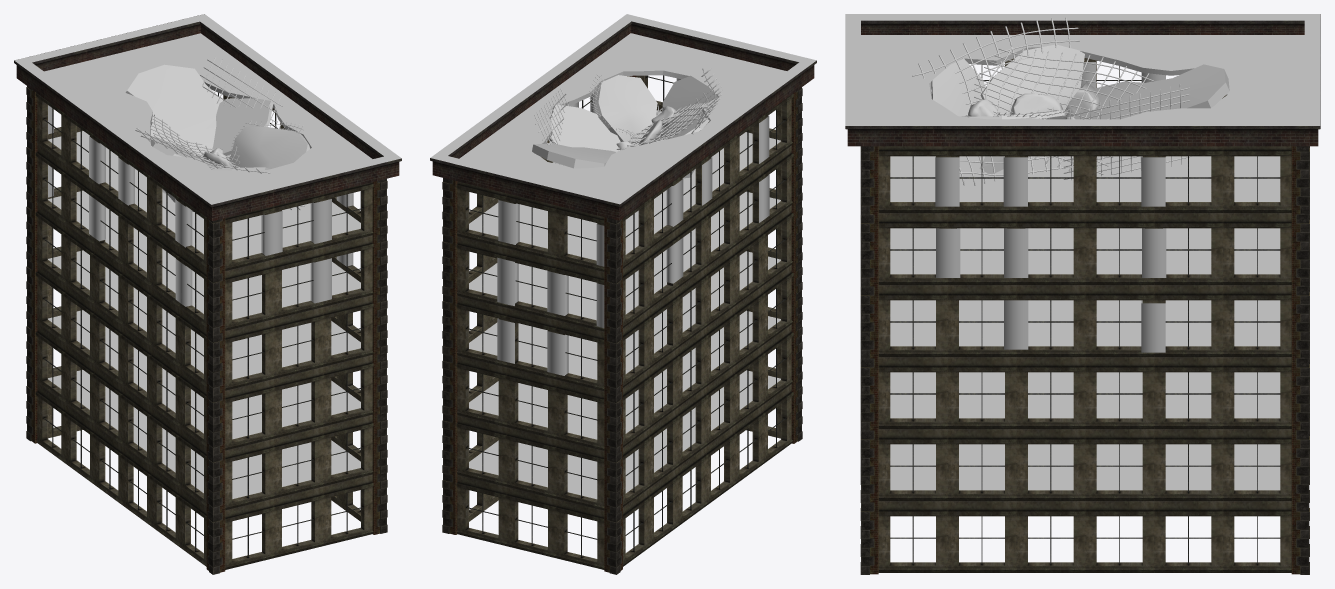
Rendered from BuildingTanSm03.fbx.
3 renders of one model, left to right at view 1: azimuth 30°, elevation 25°; view 2: azimuth 150°, elevation 25°; view 3: azimuth 270°, elevation 25°, orthographic. The views are drawn at different scales.
Parts seen in each view (by area): view 1: Plane.050, Cube.177, Cube.176, Cube.202, Cube.203, Cube.204, Cube.179, Cube.181, Cube.197, Cube.198, Cube.199, Cube.200 (+2 smaller); view 2: Plane.050, Cube.177, Cube.176, Cube.181, Cube.195, Cube.194, Cube.192, Cube.190, Cube.193, Cube.200, Cube.201, Cube.179 (+1 smaller); view 3: Plane.050, Cube.177, Cube.176, Cube.181, Cube.180, Cube.179, Cube.188, Cube.183, Cube.185, Cube.187, Cube.182, Cube.184 (+2 smaller).
Part boxes in pixels (x1,y1,x2,y2): Plane.050: [26, 86, 387, 574]; Cube.177: [44, 33, 372, 211]; Cube.176: [14, 14, 401, 221]; Cube.202: [261, 210, 282, 255]; Cube.203: [310, 199, 331, 243]; Cube.204: [310, 258, 331, 303]; Cube.179: [200, 56, 282, 160]; Cube.181: [150, 114, 239, 167]; Cube.197: [175, 258, 192, 306]; Cube.198: [175, 199, 192, 247]; Cube.199: [118, 157, 134, 205]; Cube.200: [89, 136, 105, 184]; Plane.050: [442, 75, 802, 574]; Cube.177: [455, 33, 786, 201]; Cube.176: [430, 14, 816, 220]; Cube.181: [616, 102, 707, 152]; Cube.195: [497, 257, 518, 305]; Cube.194: [547, 330, 568, 375]; Cube.192: [498, 200, 519, 244]; Cube.190: [547, 271, 568, 315]; Cube.193: [497, 318, 518, 363]; Cube.200: [666, 179, 683, 226]; Cube.201: [666, 238, 683, 283]; Cube.179: [534, 89, 568, 164]; Plane.050: [860, 58, 1309, 574]; Cube.177: [861, 35, 1304, 174]; Cube.176: [845, 14, 1320, 146]; Cube.181: [973, 44, 1153, 174]; Cube.180: [912, 17, 1098, 185]; Cube.179: [1062, 84, 1191, 180]; Cube.188: [1141, 300, 1165, 352]; Cube.183: [1141, 156, 1165, 206]; Cube.185: [1003, 156, 1027, 206]; Cube.187: [935, 156, 959, 206]; Cube.182: [1142, 228, 1166, 277]; Cube.184: [1004, 228, 1028, 277].
Size of what is drawn, in the model's own units: 1360 by 2651 by 2440.
